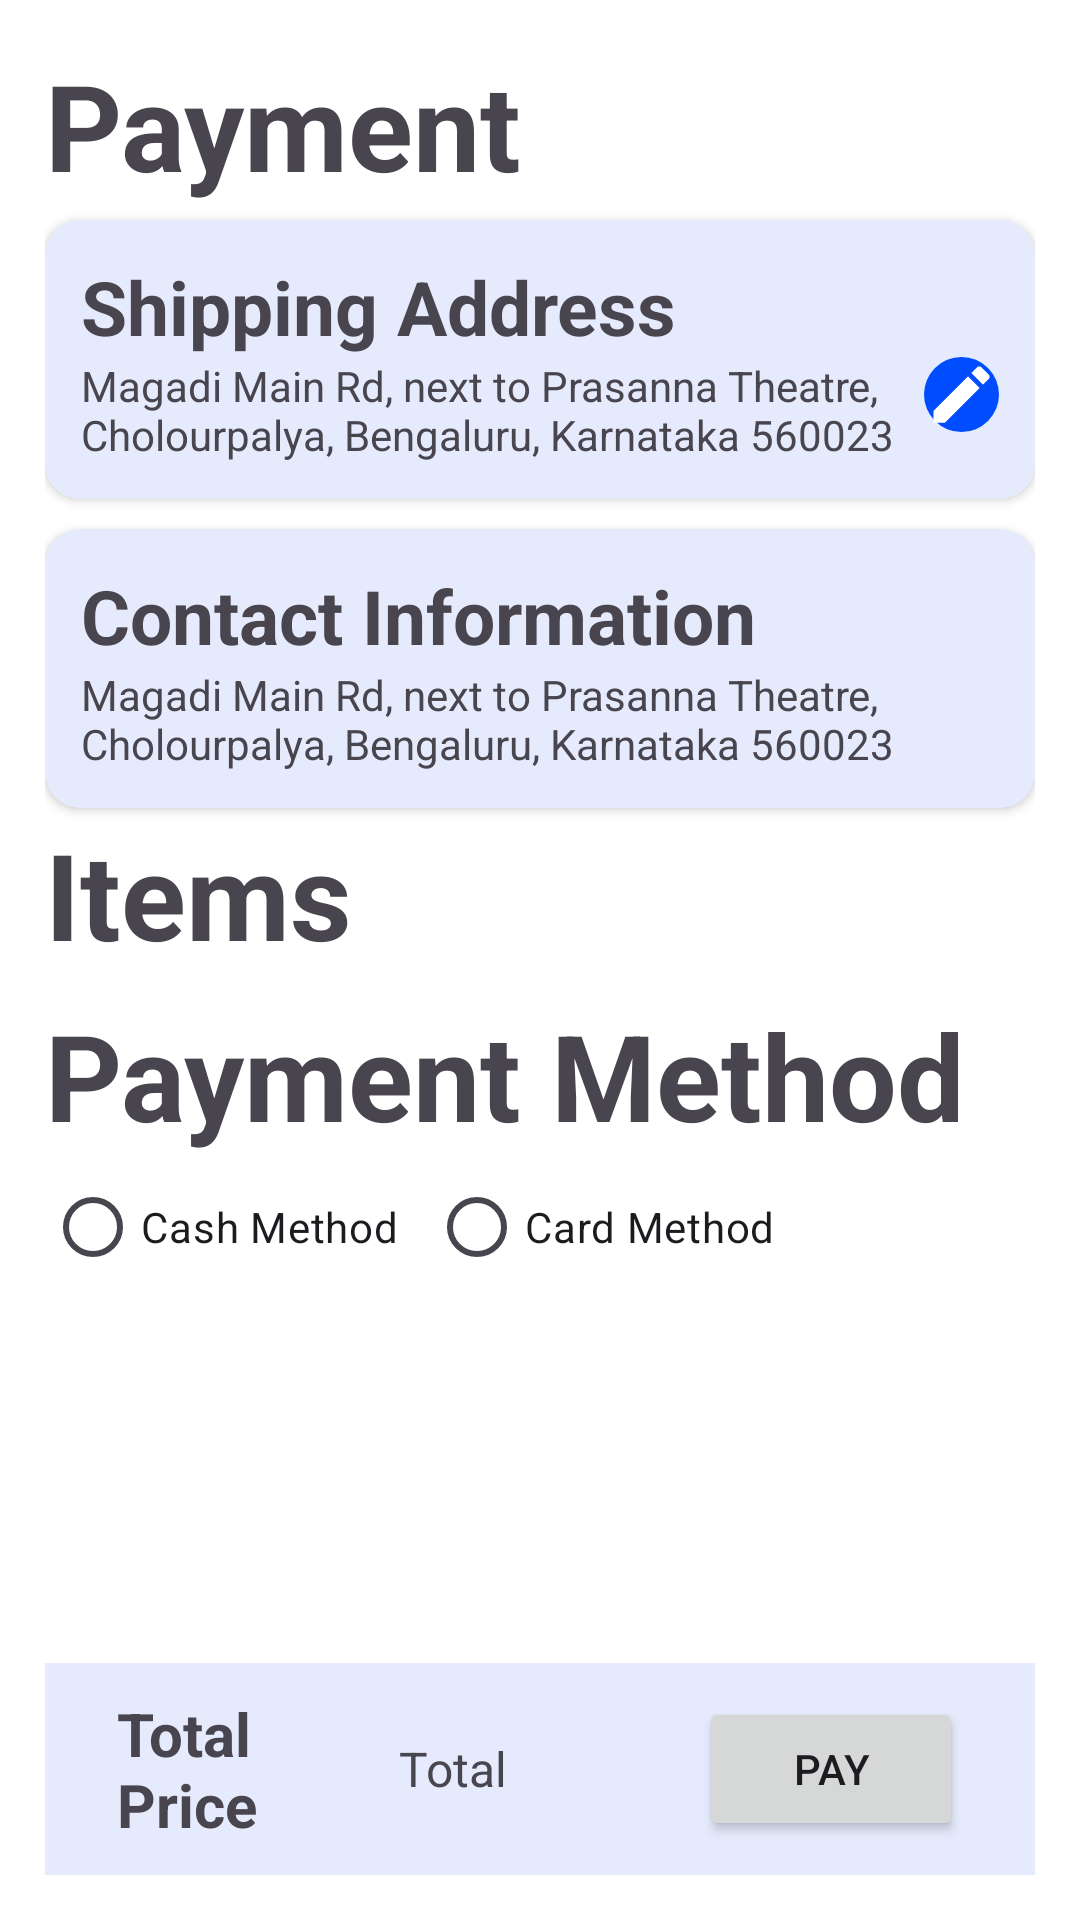

Icons on this 1080w x 1920h Android screen, each with its box as Rect(x1, y1, x2, y2):
edit: Rect(924, 357, 999, 432)
